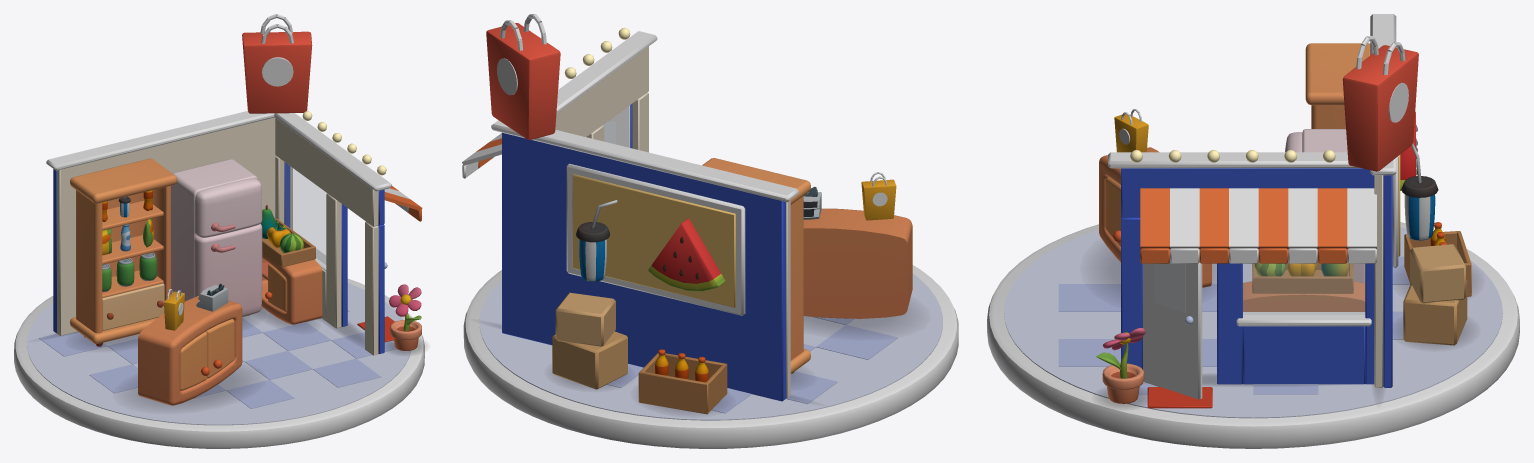
Rendered from shop.glb.
3 views of the same model, side by side, from view 1: azimuth 30°, elevation 25°; view 2: azimuth 150°, elevation 25°; view 3: azimuth 270°, elevation 25° (orthographic). The views are drawn at different scales.
Parts seen in each view (by area): view 1: matte, glass, shadow, glow; view 2: matte, shadow; view 3: matte, glass, shadow, glow.
Part boxes in pixels (x1,y1,x2,y2): matte: [14, 14, 424, 448]; glass: [284, 162, 326, 264]; shadow: [51, 307, 424, 407]; glow: [302, 111, 386, 175]; matte: [462, 14, 958, 448]; shadow: [498, 311, 909, 412]; matte: [987, 14, 1519, 448]; glass: [1154, 263, 1364, 314]; shadow: [1097, 249, 1474, 407]; glow: [1130, 150, 1335, 162].
Size of the model in its own units: 4.1 by 3.12 by 4.1.
